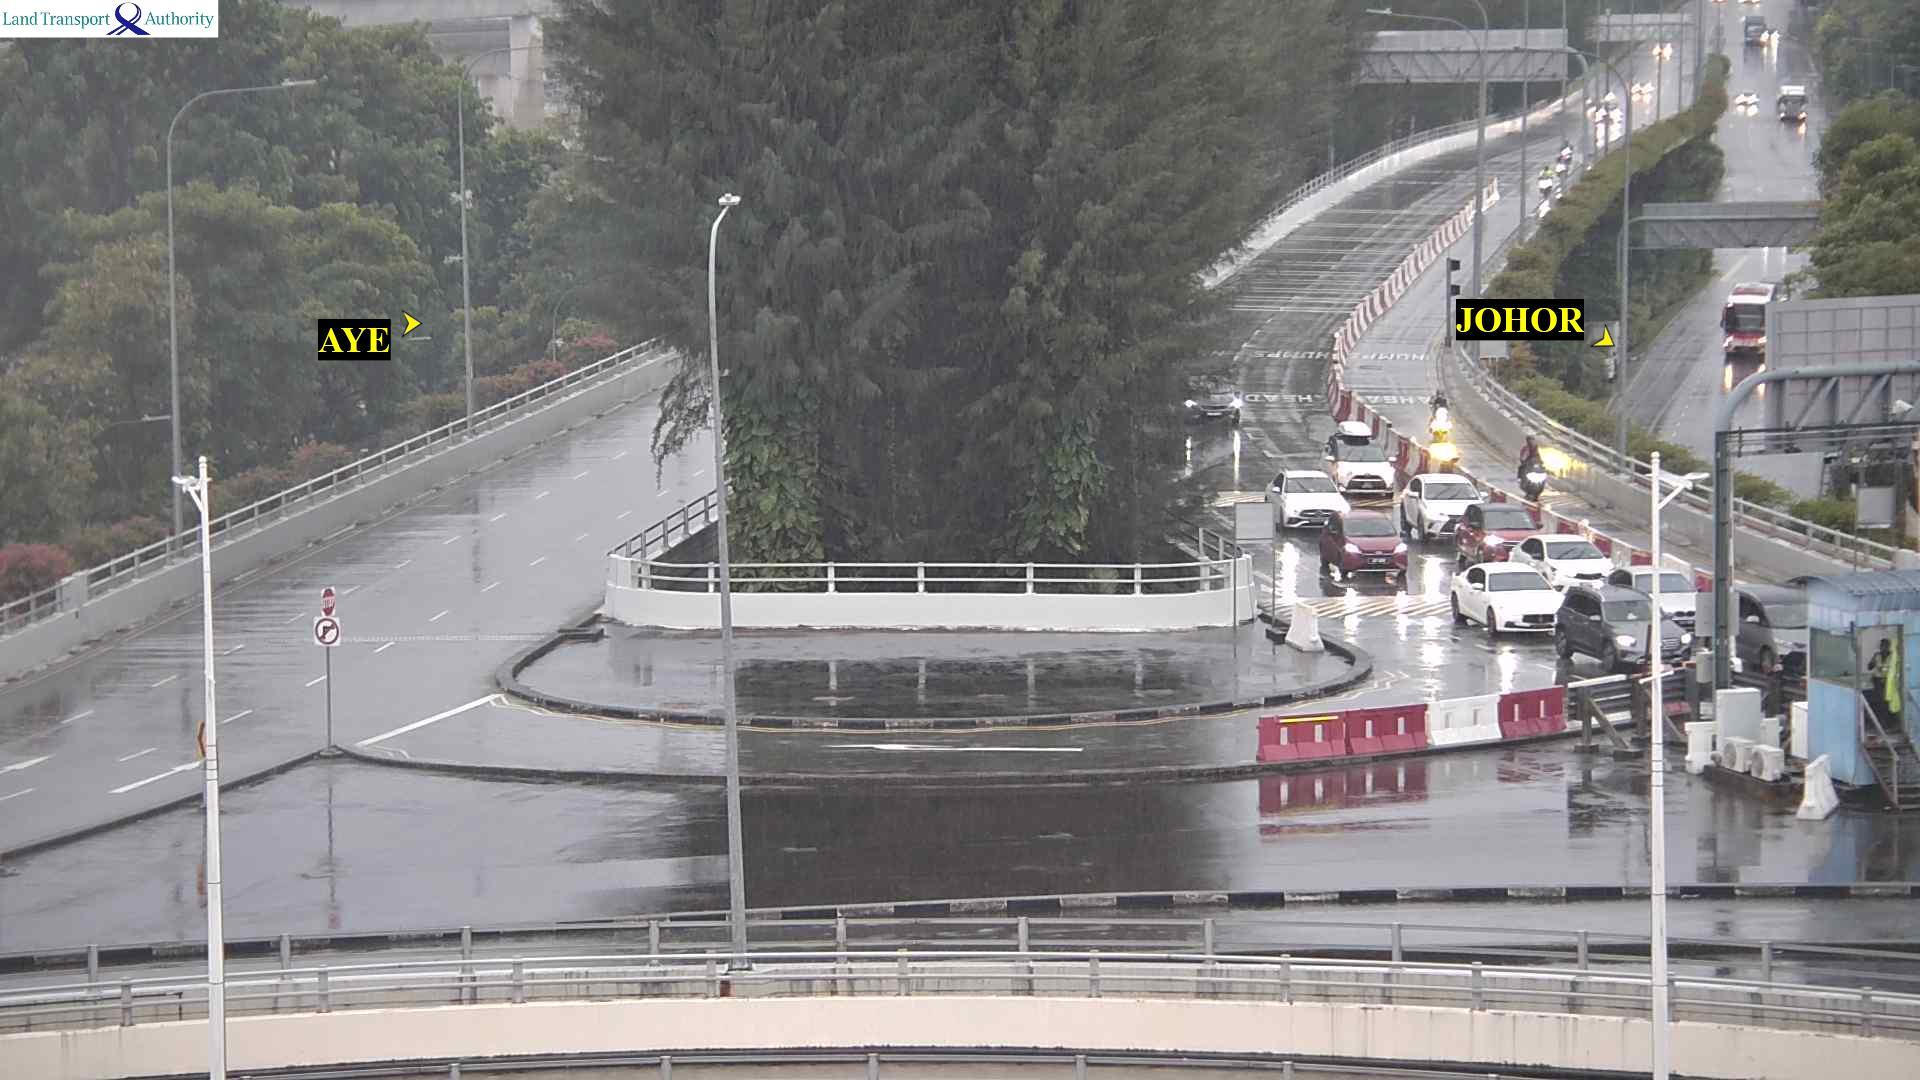vehicle-secondlink-johor: (1555, 588, 1706, 662), (1448, 564, 1575, 633), (1599, 567, 1730, 624), (1315, 512, 1415, 576), (1395, 472, 1495, 533), (1515, 538, 1624, 588), (1451, 506, 1556, 554), (1264, 471, 1350, 528), (1325, 456, 1405, 500), (1177, 376, 1241, 424), (1520, 434, 1546, 501), (1431, 390, 1449, 440), (1539, 165, 1551, 193)
